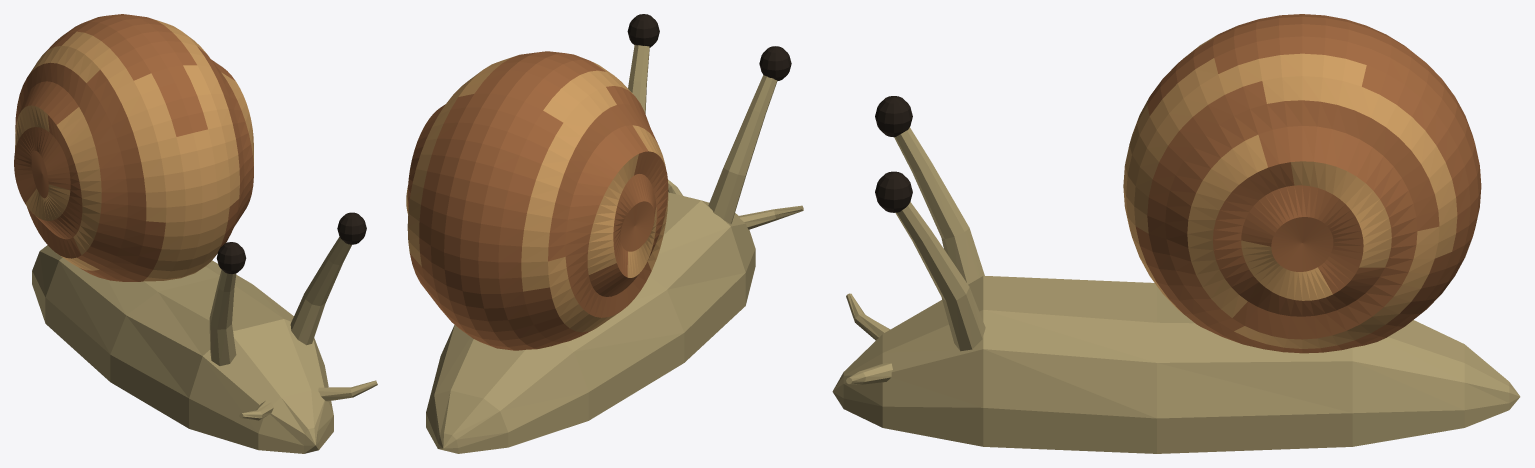
The picture shows the model from 3 angles, left to right: view 1: azimuth 30°, elevation 25°; view 2: azimuth 150°, elevation 25°; view 3: azimuth 270°, elevation 25°; orthographic projection. The views are drawn at different scales.
Parts seen in each view (by area): view 1: SolidExternalSpiralReliefShell, ContinuousBroadFootAndHead, RightEyeStalk, LeftEyeStalk, RightEye, LeftEye, RightLowerFeeler, LeftLowerFeeler; view 2: SolidExternalSpiralReliefShell, ContinuousBroadFootAndHead, LeftEyeStalk, RightEyeStalk, LeftEye, RightEye, LeftLowerFeeler; view 3: SolidExternalSpiralReliefShell, ContinuousBroadFootAndHead, RightEyeStalk, LeftEyeStalk, RightEye, LeftEye, LeftLowerFeeler, RightLowerFeeler.
Part boxes in pixels (box(x1,y1,x2,y2)): SolidExternalSpiralReliefShell: box(14, 14, 253, 281); ContinuousBroadFootAndHead: box(32, 245, 333, 453); RightEyeStalk: box(290, 237, 351, 345); LeftEyeStalk: box(209, 269, 236, 365); RightEye: box(337, 212, 366, 244); LeftEye: box(216, 242, 246, 273); RightLowerFeeler: box(318, 380, 377, 401); LeftLowerFeeler: box(239, 400, 273, 420); SolidExternalSpiralReliefShell: box(406, 51, 668, 350); ContinuousBroadFootAndHead: box(426, 192, 755, 453); LeftEyeStalk: box(708, 75, 777, 224); RightEyeStalk: box(628, 45, 649, 113); LeftEye: box(759, 46, 791, 80); RightEye: box(627, 14, 659, 47); LeftLowerFeeler: box(738, 205, 803, 229); SolidExternalSpiralReliefShell: box(1123, 14, 1481, 353); ContinuousBroadFootAndHead: box(832, 275, 1520, 453); RightEyeStalk: box(895, 202, 985, 351); LeftEyeStalk: box(894, 127, 984, 284); RightEye: box(875, 171, 912, 212); LeftEye: box(875, 96, 912, 137); LeftLowerFeeler: box(846, 293, 890, 340); RightLowerFeeler: box(846, 363, 892, 384).
Bounding box in the file's own units: 0.5123 × 0.75 × 1.23.
